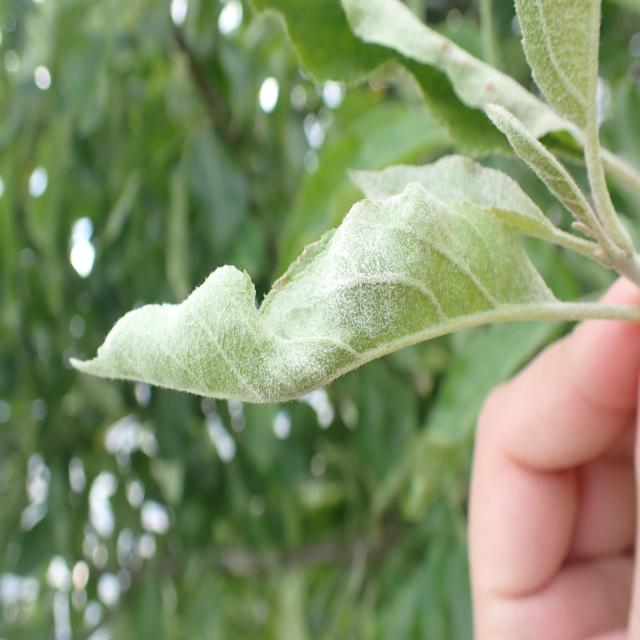Powdery_mildew: (70, 145, 549, 448), (337, 143, 595, 276), (508, 0, 620, 223), (482, 94, 614, 276)
